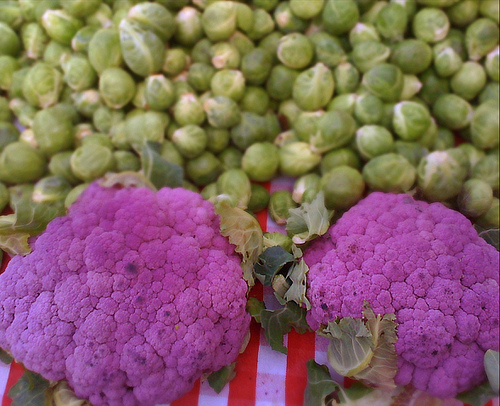cauliflower: (0, 184, 252, 404), (283, 192, 498, 391)
